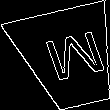M_S: (33, 28, 105, 89)
